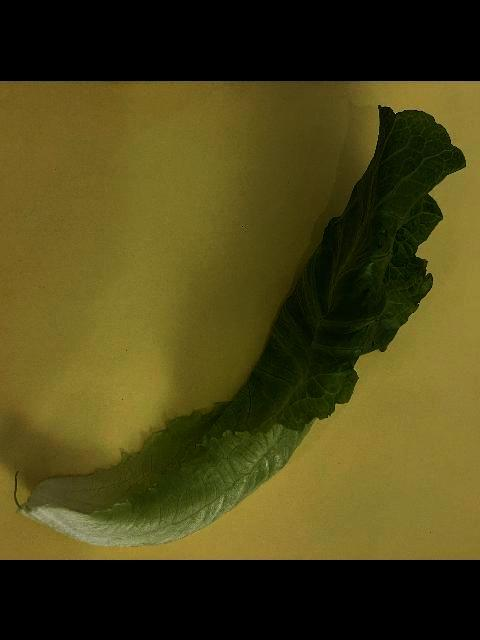lettuce: (15, 98, 470, 548)
